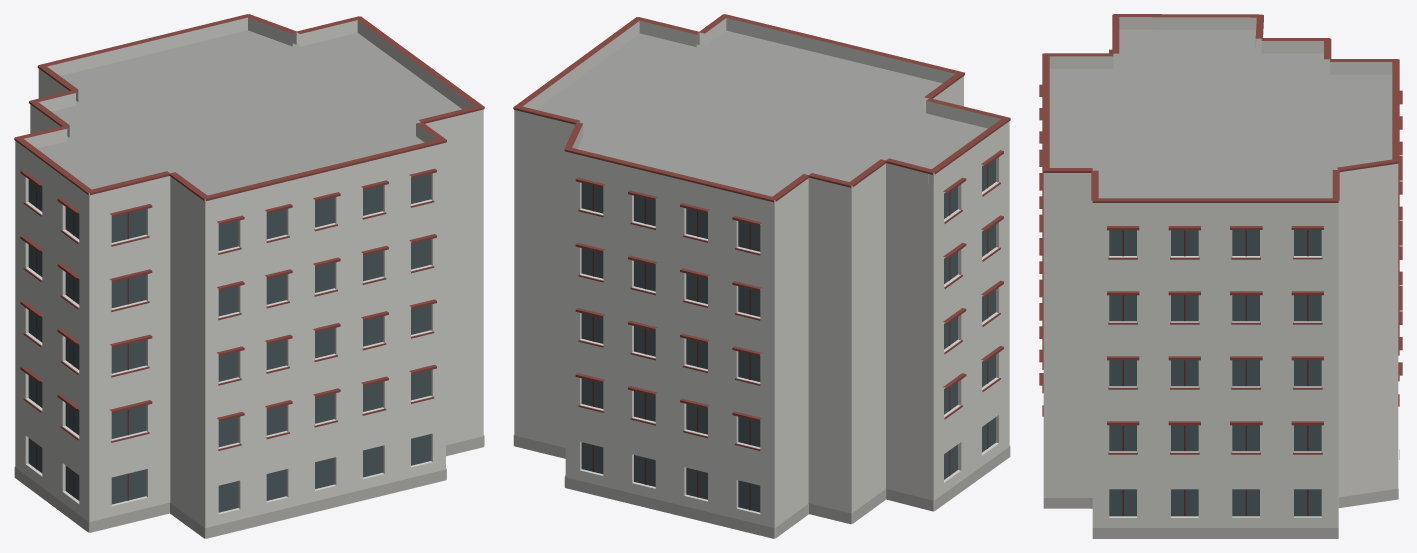
3 renders of one model, left to right at view 1: azimuth 30°, elevation 25°; view 2: azimuth 150°, elevation 25°; view 3: azimuth 270°, elevation 25°, orthographic.
Visible parts, largest first — view 1: music1__wall, music1__roof, music1__glass, music1__trim, music1__parapet, music1__base; view 2: music1__wall, music1__roof, music1__glass, music1__parapet, music1__trim, music1__base, music1__frame; view 3: music1__wall, music1__roof, music1__glass, music1__trim, music1__parapet, music1__base, music1__frame.
Part boxes in pixels (x1,y1,x2,y2): music1__wall: (15, 78, 483, 538); music1__roof: (37, 30, 461, 195); music1__glass: (28, 174, 430, 512); music1__trim: (14, 14, 484, 450); music1__parapet: (15, 17, 483, 211); music1__base: (14, 435, 484, 538); music1__wall: (514, 86, 1009, 538); music1__roof: (536, 30, 987, 196); music1__glass: (581, 159, 995, 512); music1__parapet: (514, 18, 1009, 212); music1__trim: (513, 14, 1010, 450); music1__base: (513, 435, 1010, 538); music1__frame: (592, 165, 988, 510); music1__wall: (1043, 174, 1398, 527); music1__roof: (1049, 29, 1392, 198); music1__glass: (1109, 230, 1321, 516); music1__trim: (1039, 14, 1402, 454); music1__parapet: (1043, 17, 1398, 213); music1__base: (1043, 449, 1399, 538); music1__frame: (1122, 230, 1308, 516).
Bounding box in the file's own units: 22.54 × 18.7 × 18.24.
